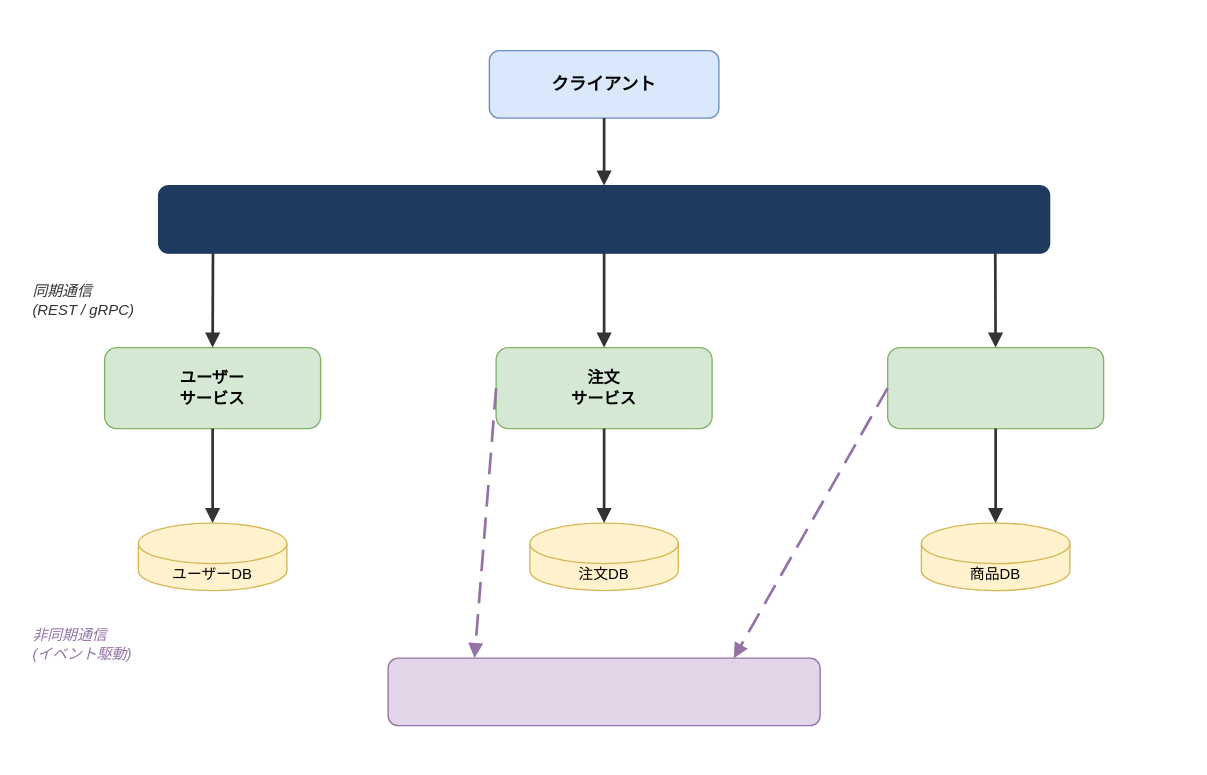
This 1207x775 diagram has some shape labels left out. Here are the shapes that lost their labels. From the top down, the centre of each, then its label:
At [603,218]: "API Gateway".
At [995,387]: "商品 サービス".
At [603,691]: "メッセージブローカー".
